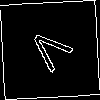V: (25, 25, 81, 80)
